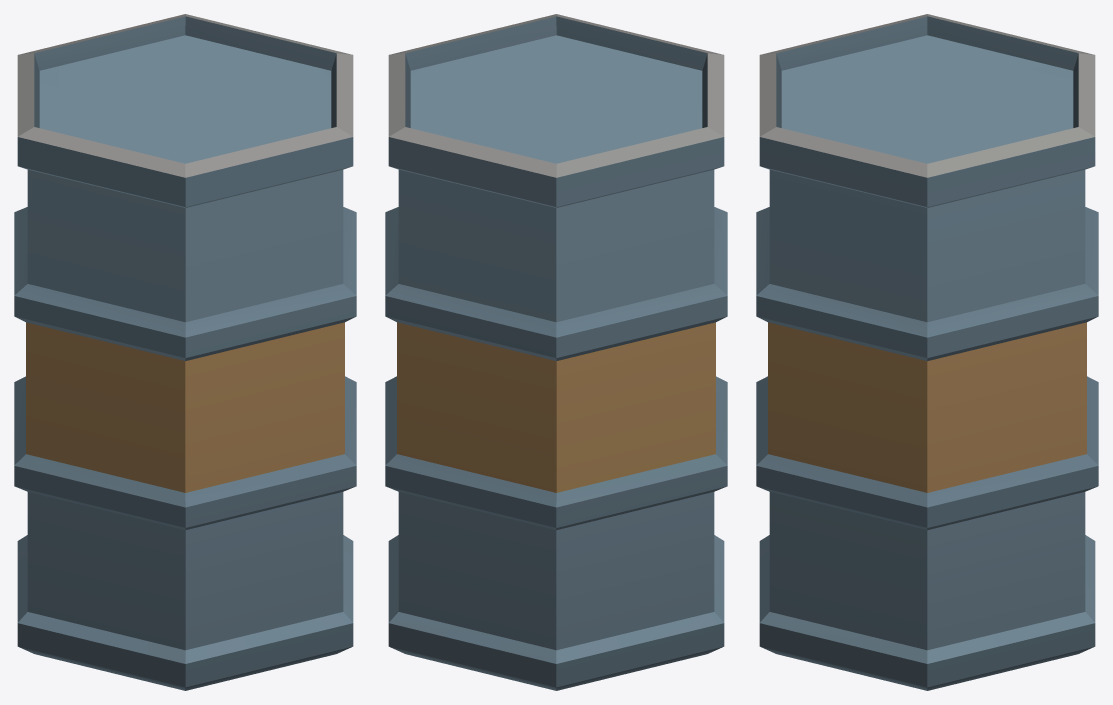
The model's file is drum.lod1.glb.
The picture shows the model from 3 angles, left to right: view 1: azimuth 30°, elevation 25°; view 2: azimuth 150°, elevation 25°; view 3: azimuth 270°, elevation 25°; orthographic projection.
Bounding box in the file's own units: 0.612 × 0.9 × 0.53.
